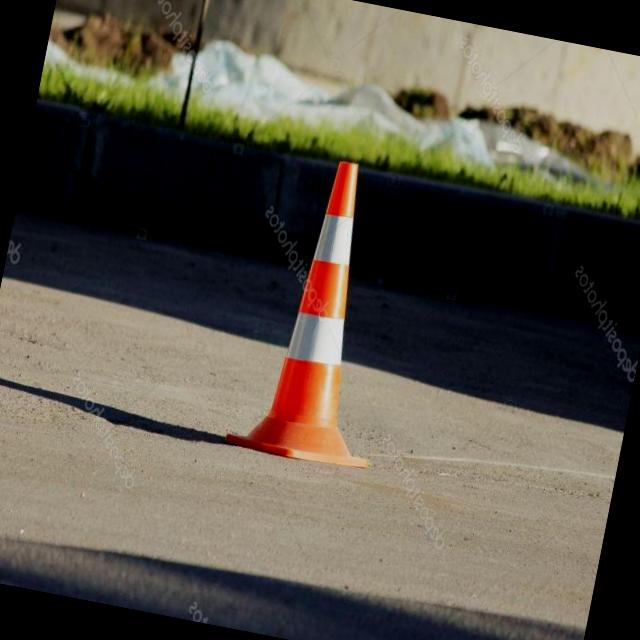Cone: (224, 145, 421, 478)
